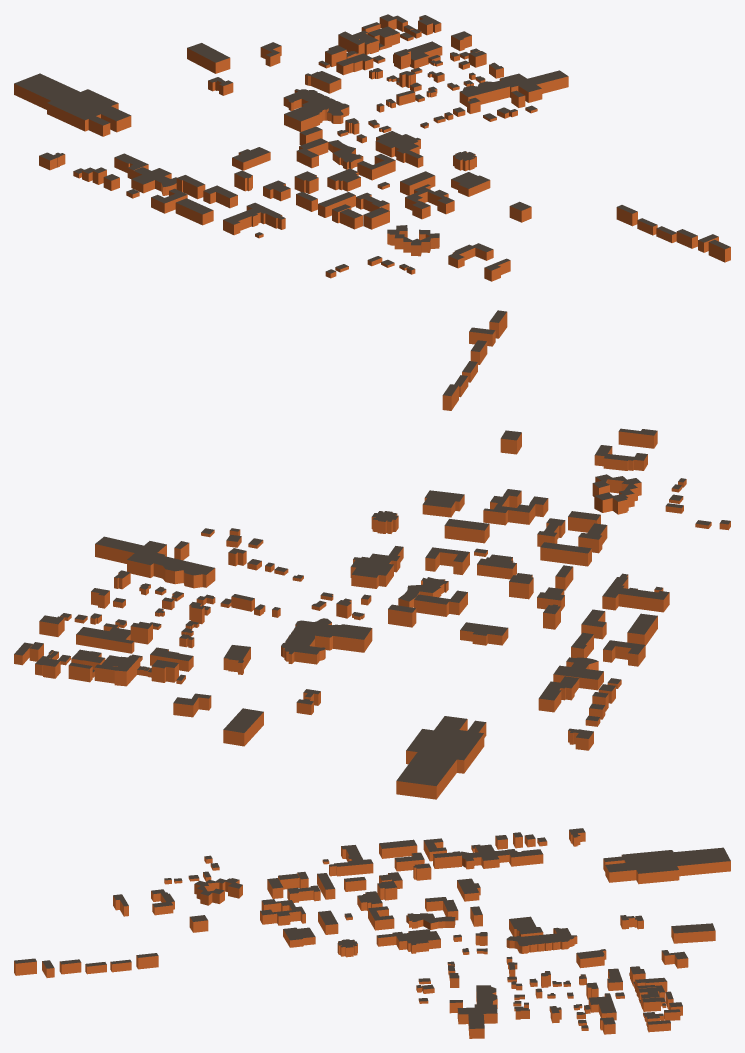
The model's file is buildings-2.obj.
3 renders of one model, top to bottom at view 1: azimuth 30°, elevation 25°; view 2: azimuth 150°, elevation 25°; view 3: azimuth 270°, elevation 25°, orthographic. The views are drawn at different scales.
Parts seen in each view (by area): view 1: map_14.osm_buildings; view 2: map_14.osm_buildings; view 3: map_14.osm_buildings.
Part boxes in pixels (x1=…): map_14.osm_buildings: x1=14, y1=14, x2=730, y2=281; map_14.osm_buildings: x1=14, y1=310, x2=730, y2=799; map_14.osm_buildings: x1=14, y1=828, x2=730, y2=1038.
Size of the model in its own units: 775 by 79.37 by 1116.
